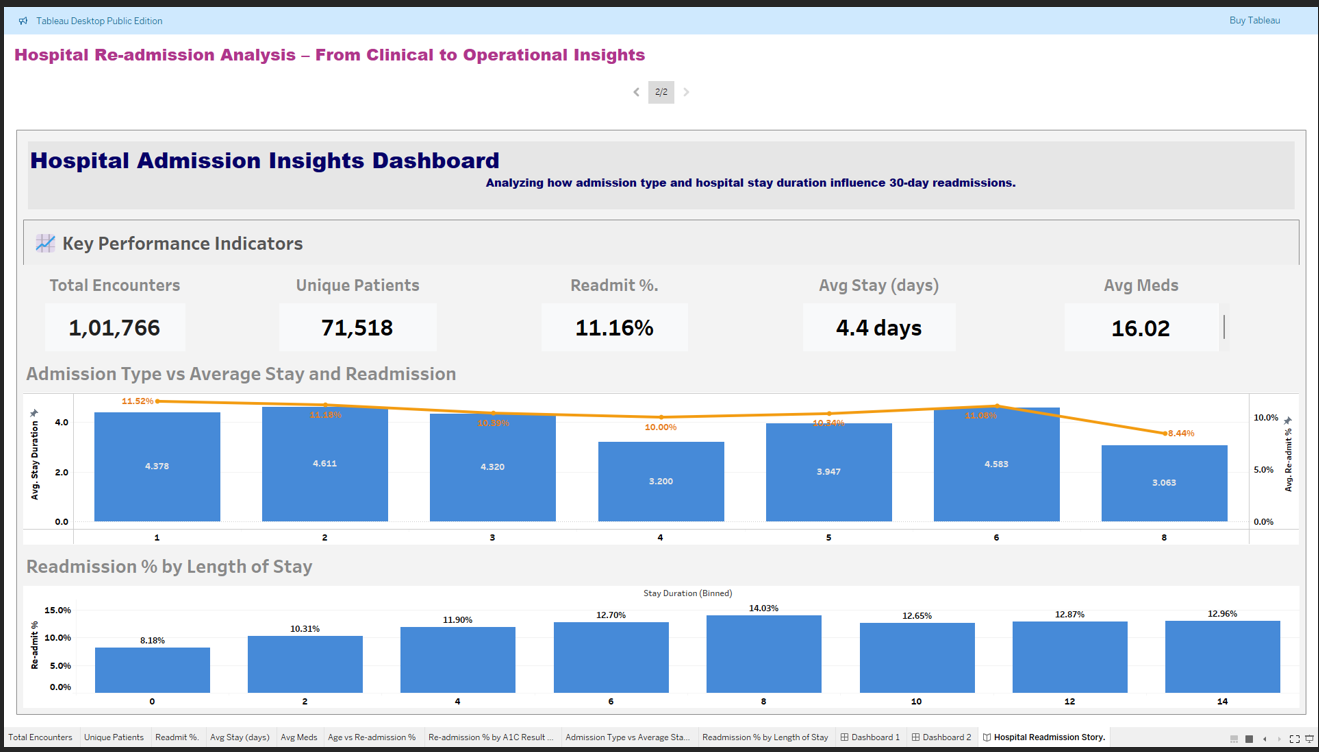

The dashboard page shown, as its layout file describes it:
{"tool":"tableau","page":{"name":"Dashboard 2","canvas":[1000,1000],"units":"permille","ordinal":1},"visuals":[{"type":"text","box":[10.7,18.8,978.7,138]},{"type":"text","box":[10.7,156.8,978.7,85.7]},{"type":"blank","box":[10.7,242.5,21.3,144.7]},{"type":"worksheet","title":"Total Encounters","mark":"Text","box":[32,242.5,174.4,144.7]},{"type":"blank","box":[206.4,242.5,21.3,144.7]},{"type":"worksheet","title":"Unique Patients","mark":"Automatic","box":[227.7,242.5,174.4,144.7]},{"type":"blank","box":[402.1,242.5,21.3,144.7]},{"type":"worksheet","title":"Readmit %.","mark":"Automatic","box":[423.4,242.5,174.4,144.7]},{"type":"blank","box":[597.9,242.5,21.3,144.7]},{"type":"worksheet","title":"Avg Stay (days)","mark":"Automatic","box":[619.1,242.5,174.4,144.7]},{"type":"blank","box":[793.6,242.5,21.3,144.7]},{"type":"worksheet","title":"Avg Meds","mark":"Automatic","box":[814.9,242.5,174.5,144.7]},{"type":"worksheet","title":"Admission Type vs Average Stay and Readmission","mark":"Automatic","rows":["Stay_Duration","readmit_flag"],"cols":["admission_type_id"],"box":[10.7,387.1,978.7,321.5]},{"type":"worksheet","title":"Readmission % by Length of Stay","mark":"Automatic","rows":["readmit_flag"],"cols":["Stay Duration (bin)"],"box":[10.7,708.6,978.7,272.6]}]}

Visuals, with their boxes on the dashboard's canvas, which has no fixed pixel size, in thousandths of its width and height (x1, y1, x2, y2). These are canvas units, not pixel positions in the 1319x752 screenshot, which may show the page scaled, cropped or inside an application window:
text: <bbox>11, 19, 989, 157</bbox>
text: <bbox>11, 157, 989, 242</bbox>
blank: <bbox>11, 242, 32, 387</bbox>
"Total Encounters" worksheet (Text marks): <bbox>32, 242, 206, 387</bbox>
blank: <bbox>206, 242, 228, 387</bbox>
"Unique Patients" worksheet: <bbox>228, 242, 402, 387</bbox>
blank: <bbox>402, 242, 423, 387</bbox>
"Readmit %." worksheet: <bbox>423, 242, 598, 387</bbox>
blank: <bbox>598, 242, 619, 387</bbox>
"Avg Stay (days)" worksheet: <bbox>619, 242, 794, 387</bbox>
blank: <bbox>794, 242, 815, 387</bbox>
"Avg Meds" worksheet: <bbox>815, 242, 989, 387</bbox>
"Admission Type vs Average Stay and Readmission" worksheet: <bbox>11, 387, 989, 709</bbox>
"Readmission % by Length of Stay" worksheet: <bbox>11, 709, 989, 981</bbox>
